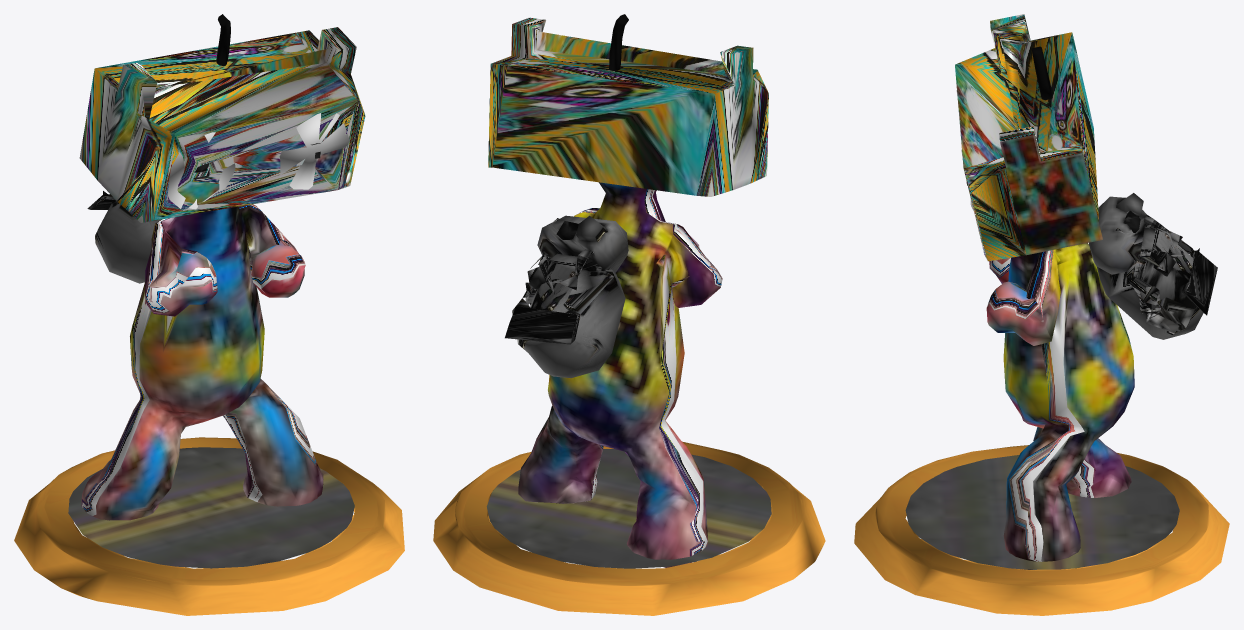
The picture shows the model from 3 angles, left to right: view 1: azimuth 30°, elevation 25°; view 2: azimuth 150°, elevation 25°; view 3: azimuth 270°, elevation 25°; orthographic projection. The views are drawn at different scales.
Bounding box in the file's own units: 1.45 × 2.09 × 1.44.
Materials: 8 (5 with a texture image).
